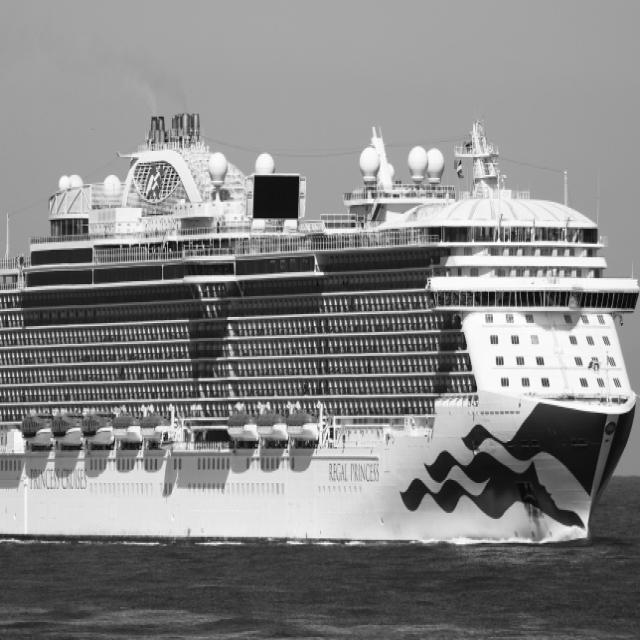cruises: (1, 110, 640, 556)
